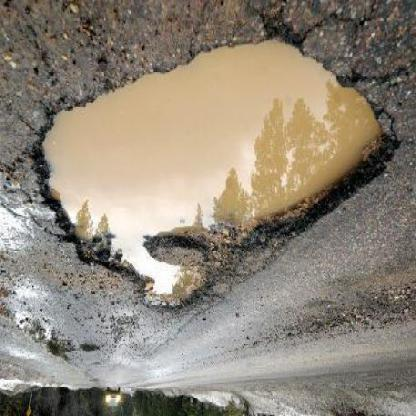pothole: (30, 33, 402, 317)
